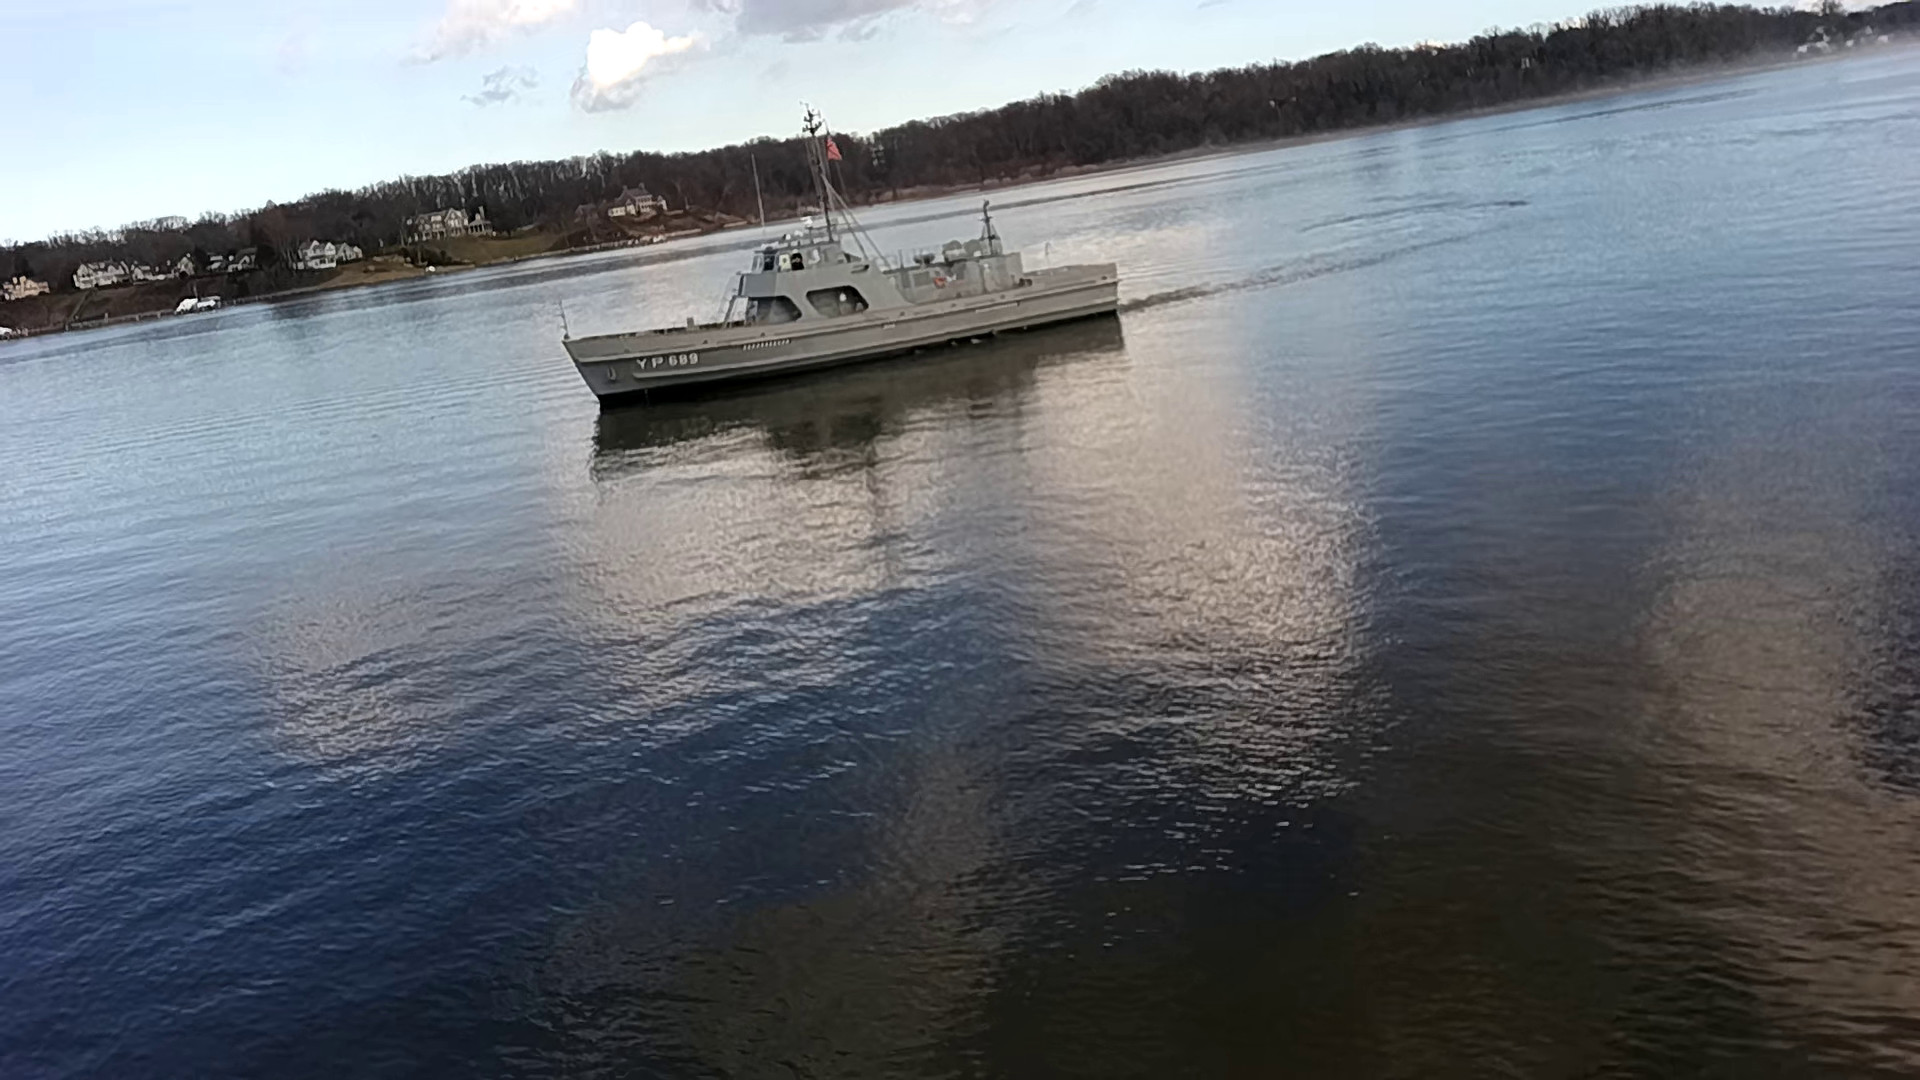YP689: (560, 108, 1121, 407)
